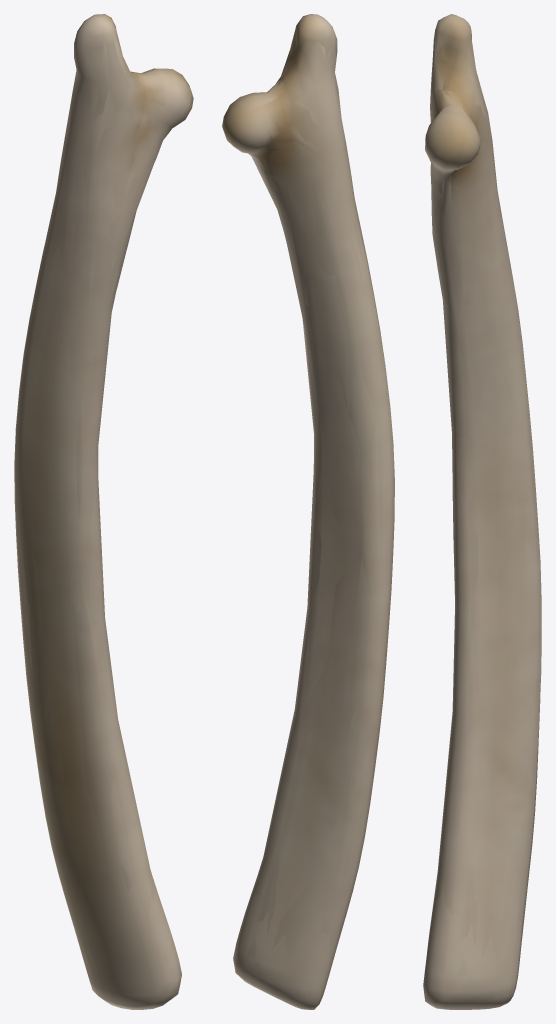
Rendered from Rib R01.fbx.
The picture shows the model from 3 angles, left to right: view 1: azimuth 30°, elevation 25°; view 2: azimuth 210°, elevation 25°; view 3: azimuth 270°, elevation 25°; orthographic projection. The views are drawn at different scales.
Visible parts, largest first — view 1: Rib R01, Rib R01 low; view 2: Rib R01, Rib R01 low; view 3: Rib R01 low, Rib R01.
Boxes of the visible parts, bbox=[...] form: Rib R01: bbox=[14, 14, 193, 1009]; Rib R01 low: bbox=[16, 16, 192, 1004]; Rib R01: bbox=[222, 14, 394, 1009]; Rib R01 low: bbox=[223, 14, 394, 1009]; Rib R01 low: bbox=[425, 14, 540, 1009]; Rib R01: bbox=[423, 14, 541, 1009].
Size of the model in its own units: 4.44 by 30.63 by 3.36.
Materials: 1 (1 with a texture image).
